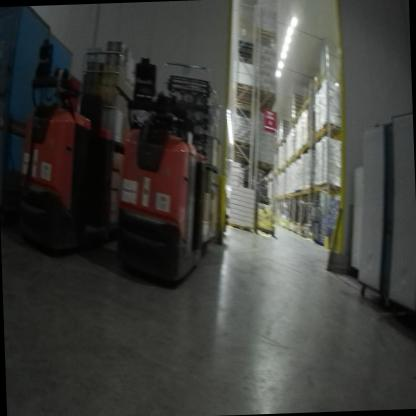pallet_truck: (5, 31, 170, 266), (91, 57, 243, 299)
